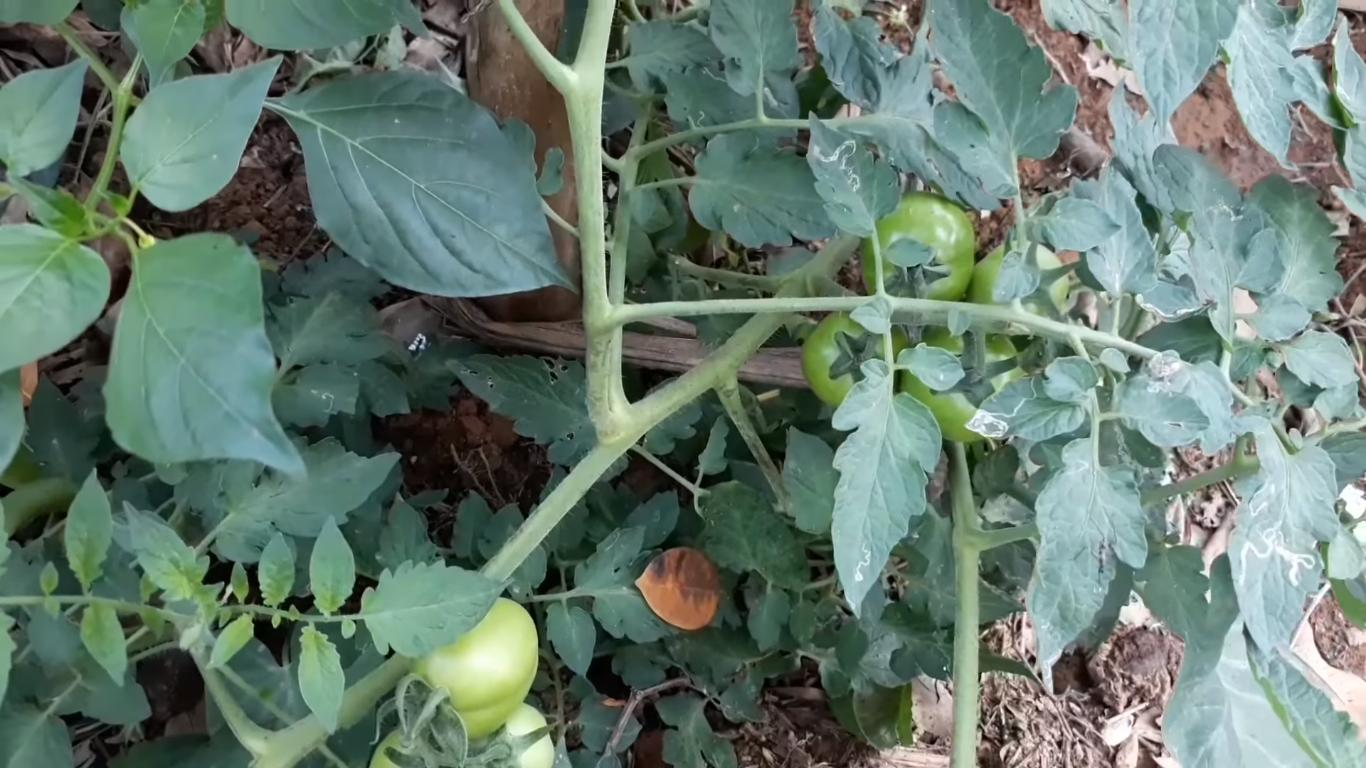Healthy: (361, 557, 511, 659)
Leaf_Miner: (830, 356, 942, 620), (1228, 445, 1341, 652), (805, 109, 901, 240), (964, 368, 1086, 443), (1135, 281, 1205, 321)
